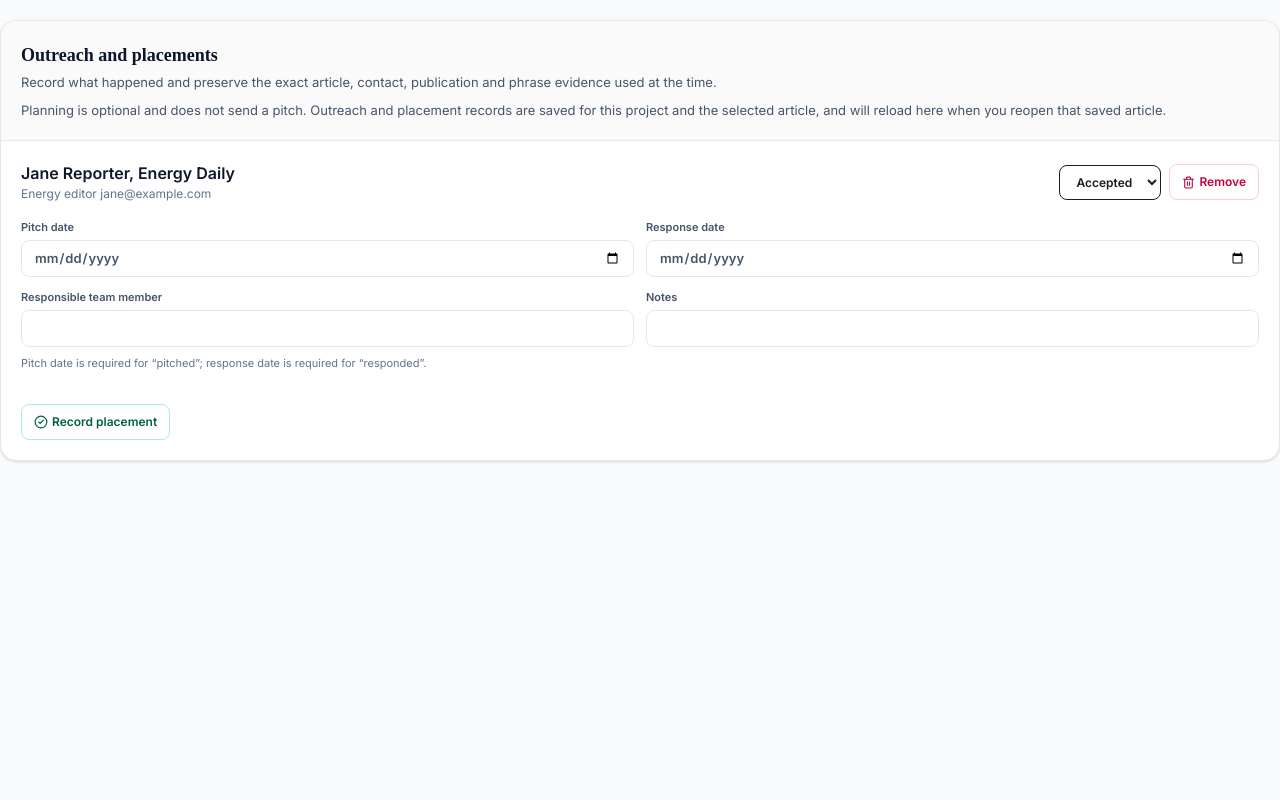
Test: MediaOutreachPanel › requires all placement evidence before allowing a placement save
This screenshot has width=1280, height=800.
Step 1. Click the button "Record placement" → (96, 422), box [21,404,170,440]
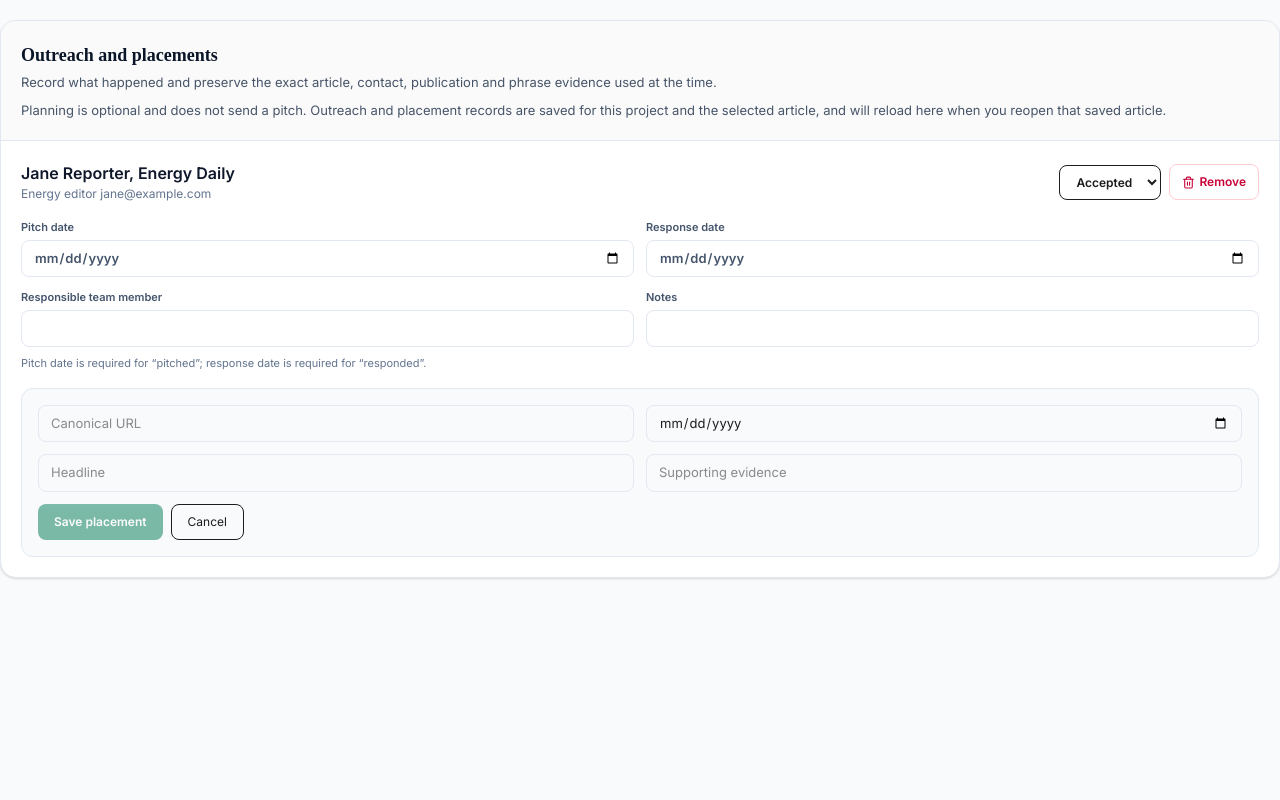
Check: the button "Save placement" is disabled, box [38,504,162,540]
Step 2. Type "https://energy.example/story" into the field labelled "Canonical URL" → (336, 423), box [38,404,634,442]
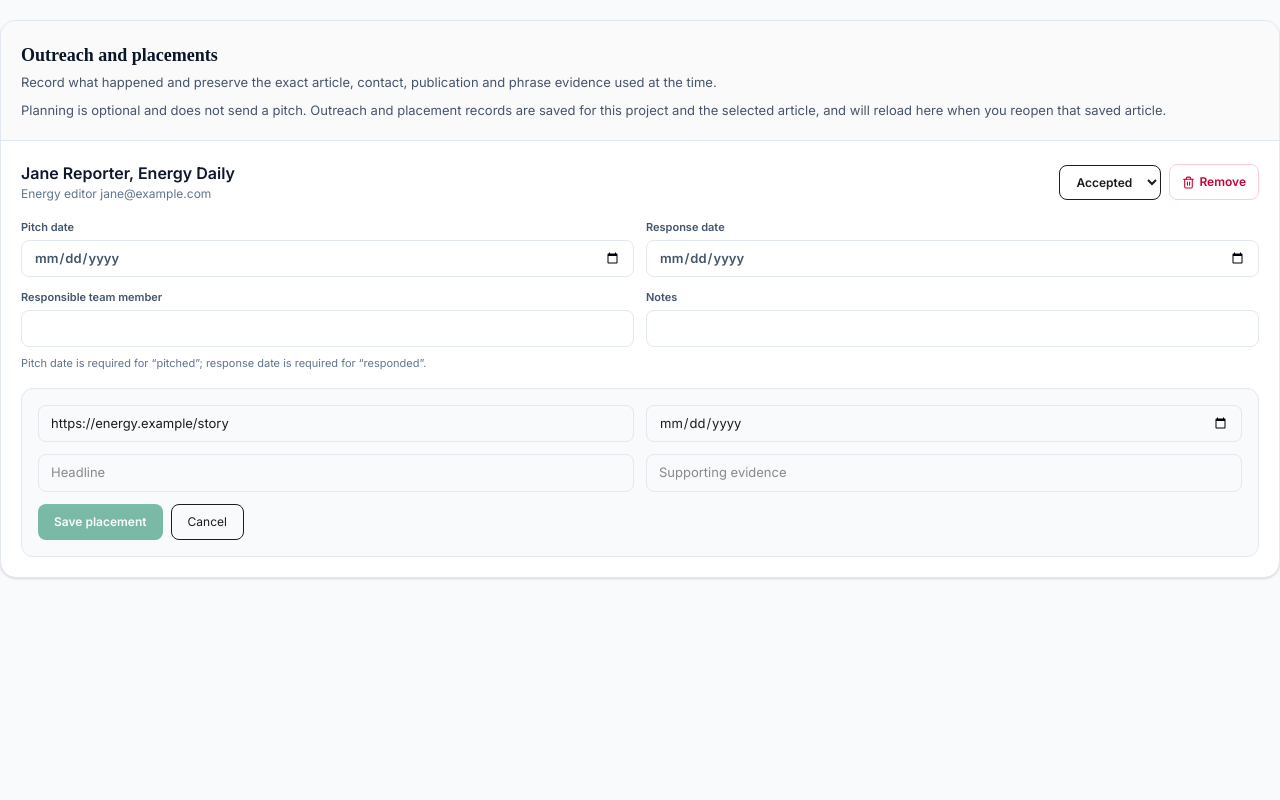
Step 3. Type "2026-09-03" into the date field named "Publication date" → (944, 423), box [646,404,1242,442]
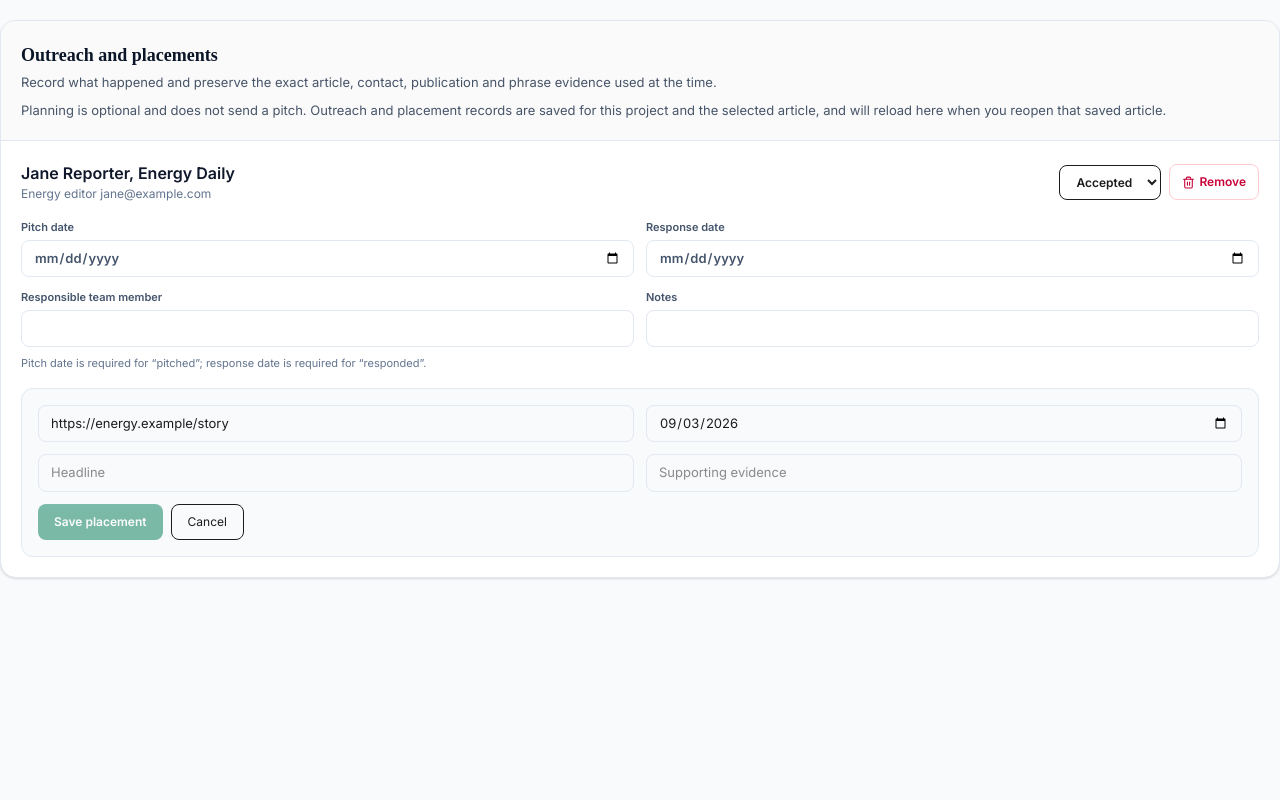
Step 4. Type "Energy transition story" into the field named "Placement headline" → (336, 473), box [38,454,634,492]
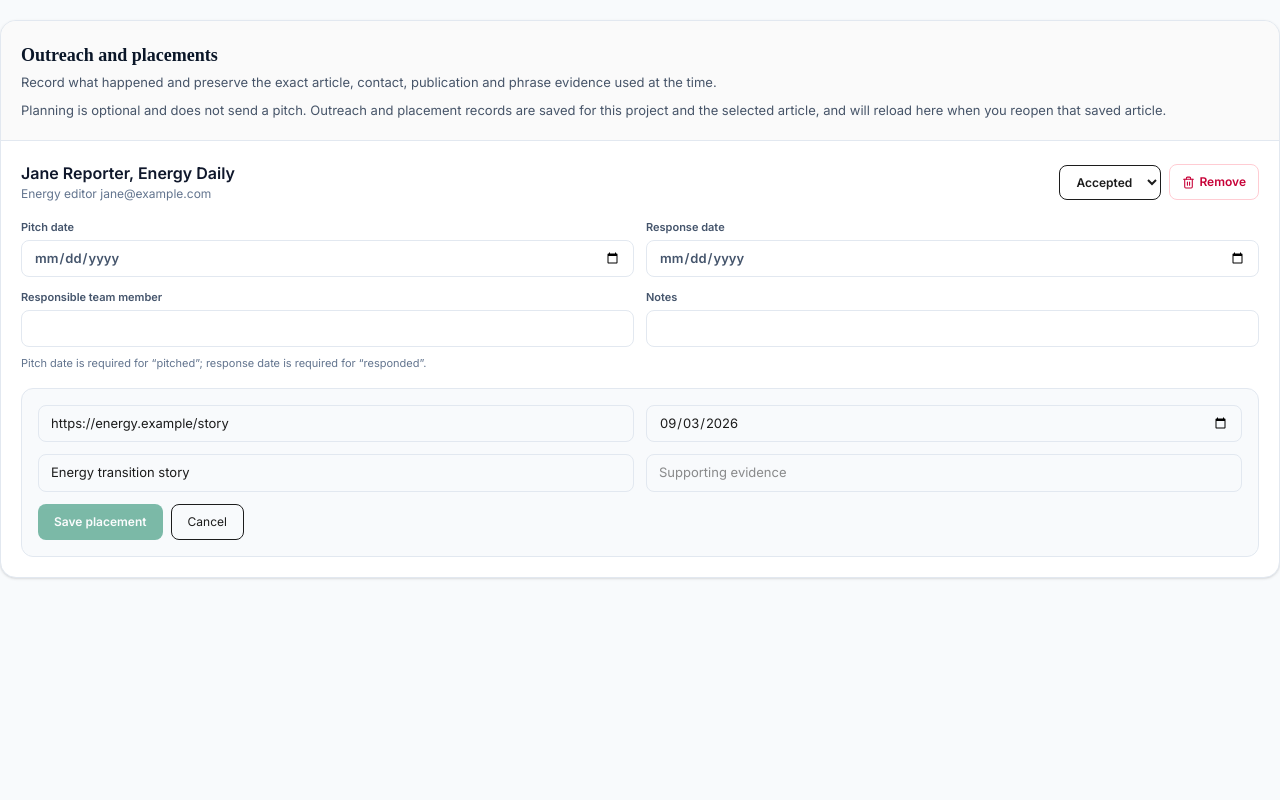
Step 5. Type "The article names the company." into the field labelled "Supporting evidence" → (944, 473), box [646,454,1242,492]
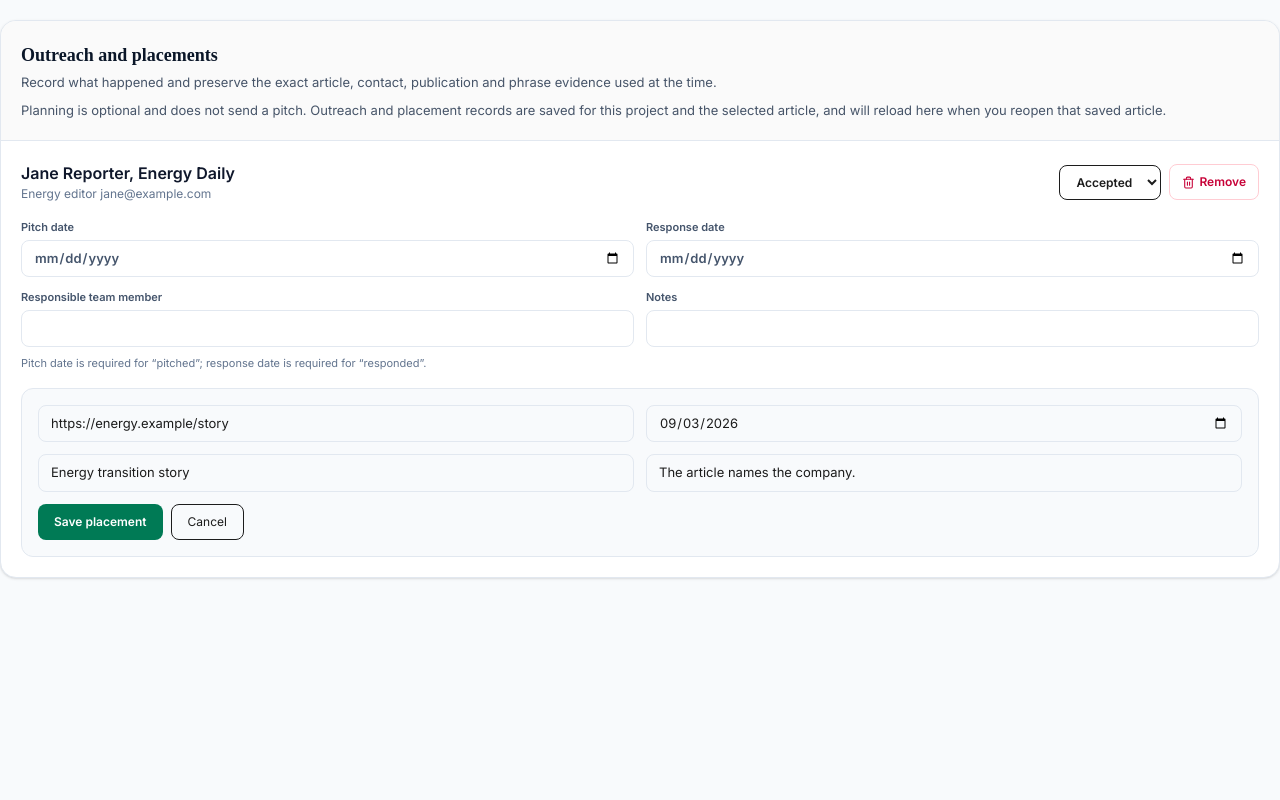
Check: the button "Save placement" is enabled
Step 6. Click the button "Save placement" → (100, 522), box [38,504,162,540]
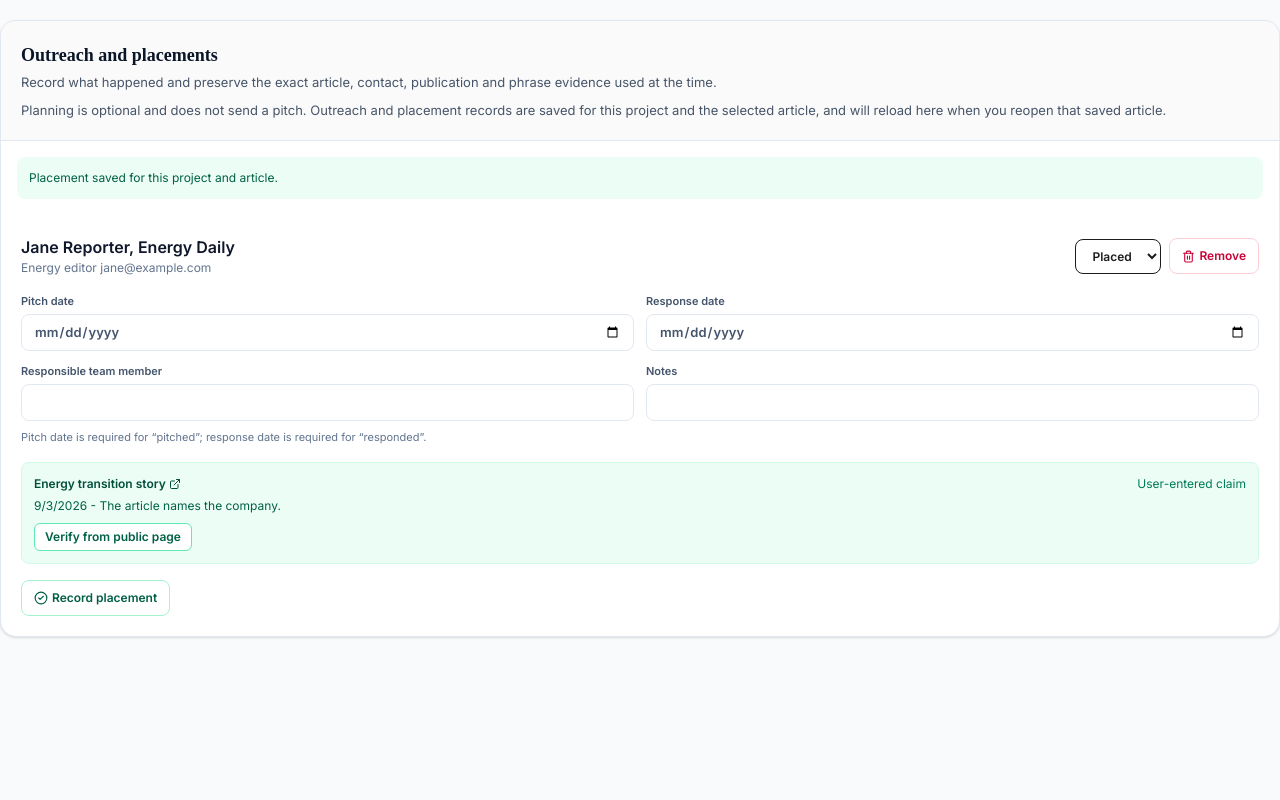
Check: the message reads "Placement saved for this project and article.", box [29,170,278,185]
